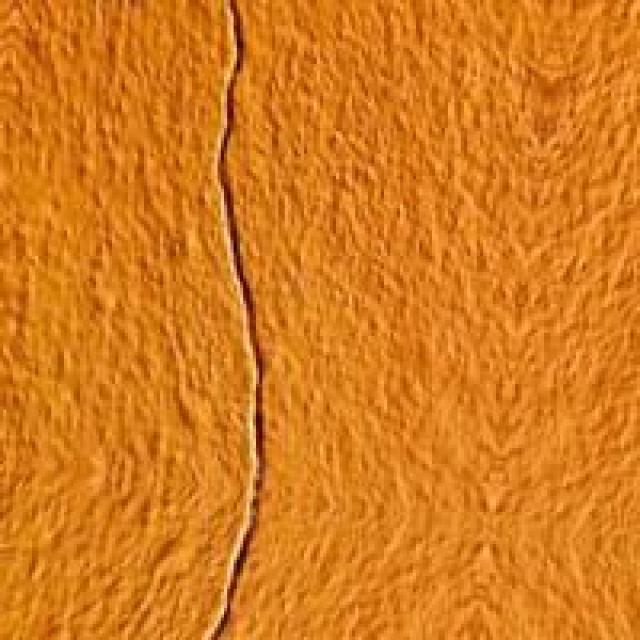crack: (131, 0, 381, 637)
